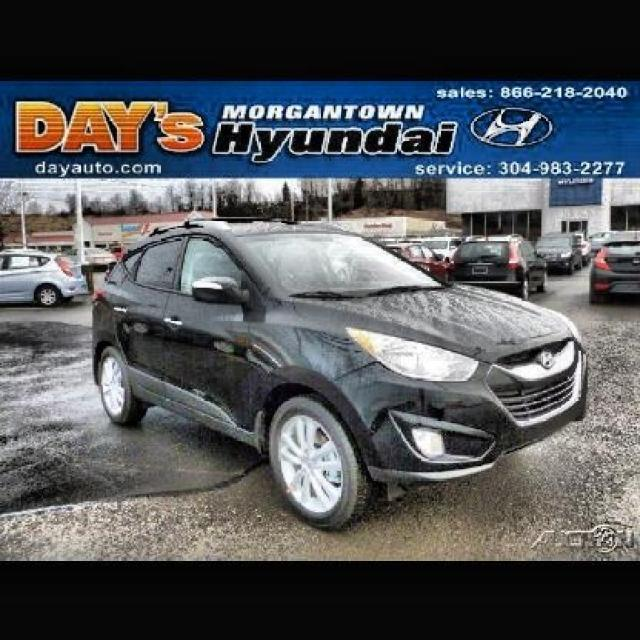black: (92, 223, 576, 520)
